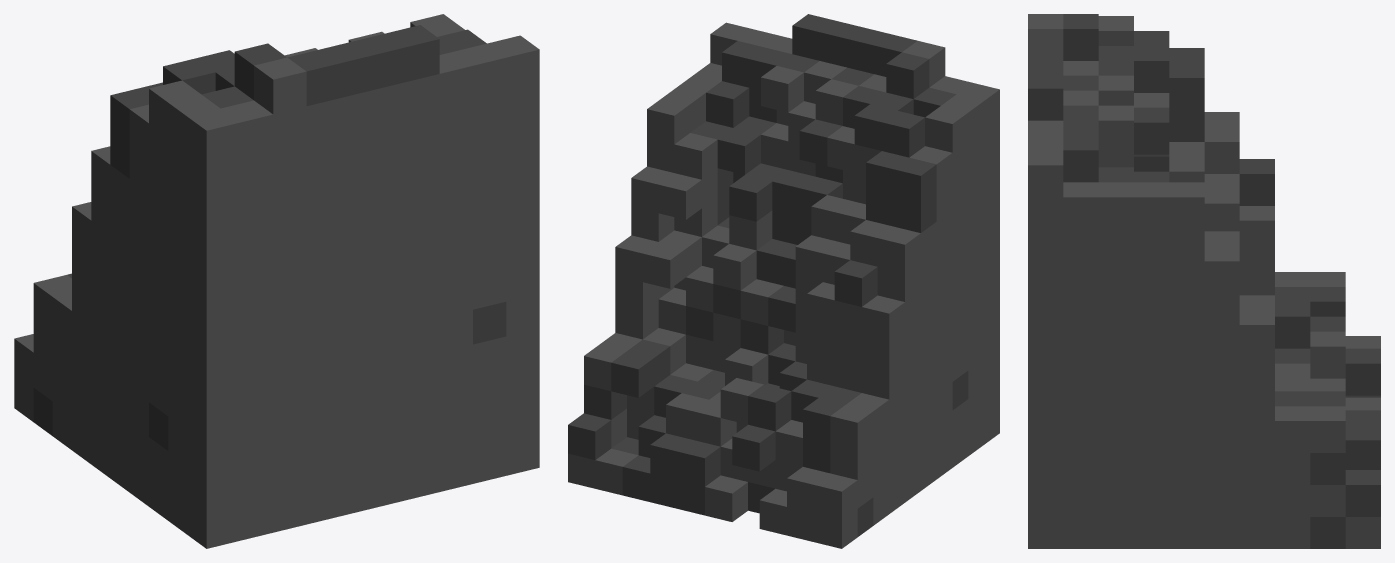
Rendered from Stein_Rand-ebene-01.obj.
The picture shows the model from 3 angles, left to right: view 1: azimuth 30°, elevation 25°; view 2: azimuth 150°, elevation 25°; view 3: azimuth 270°, elevation 25°; orthographic projection. The views are drawn at different scales.
Bounding box in the file's own units: 1 × 1.3 × 1.
Materials: 1 (1 with a texture image).
